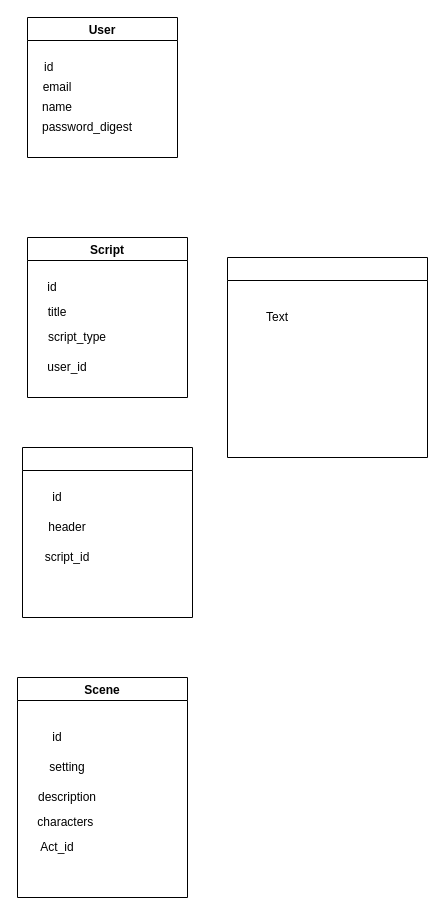
Image size: 445x915. Some labels were removed from this diagram. Here are the shapes that lost their labels. From the top down, the box of each, then its label:
(226, 256, 428, 458): Vertical Container
(22, 446, 192, 618): Act
